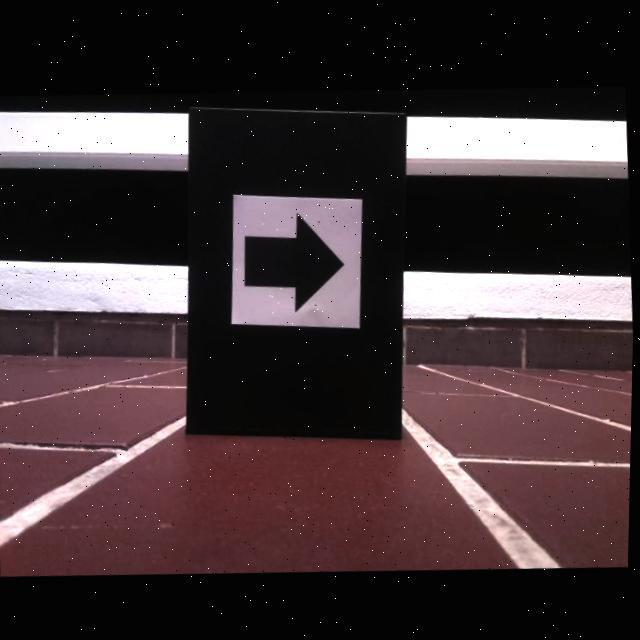RIGHT: (246, 210, 346, 311)
